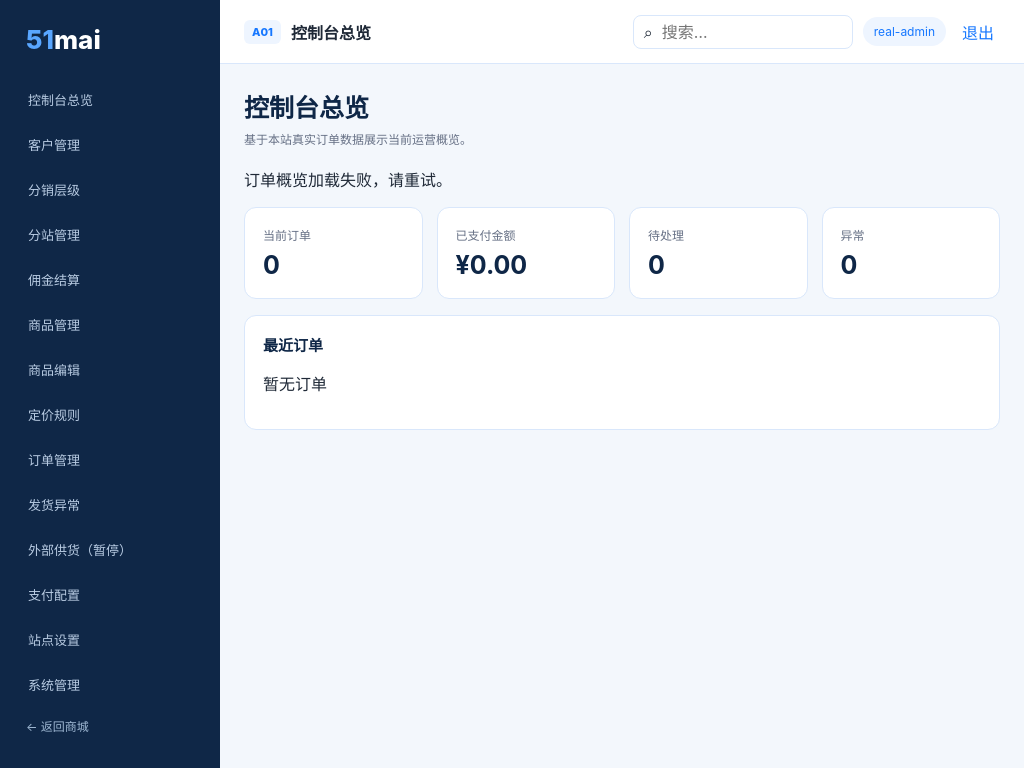
Test: 管理员真实认证接入 › 后台顶部显示真实用户名并在服务端退出成功后离开后台
Expected: the text "real-admin" is shown, left=863, top=17, right=946, bottom=46
Step 1. Click the button "退出" → coordinates (978, 32), box left=956, top=14, right=1000, bottom=50
(page scrolled)
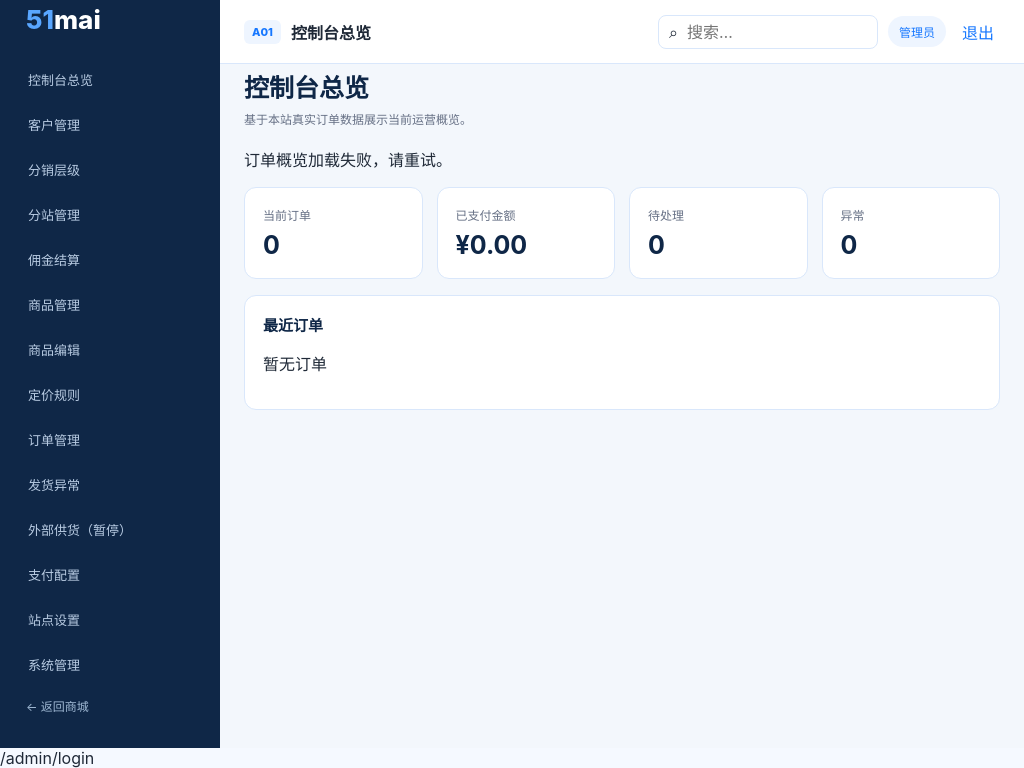
Expected: the text named "当前路径" reads "/admin/login", left=0, top=748, right=94, bottom=767
